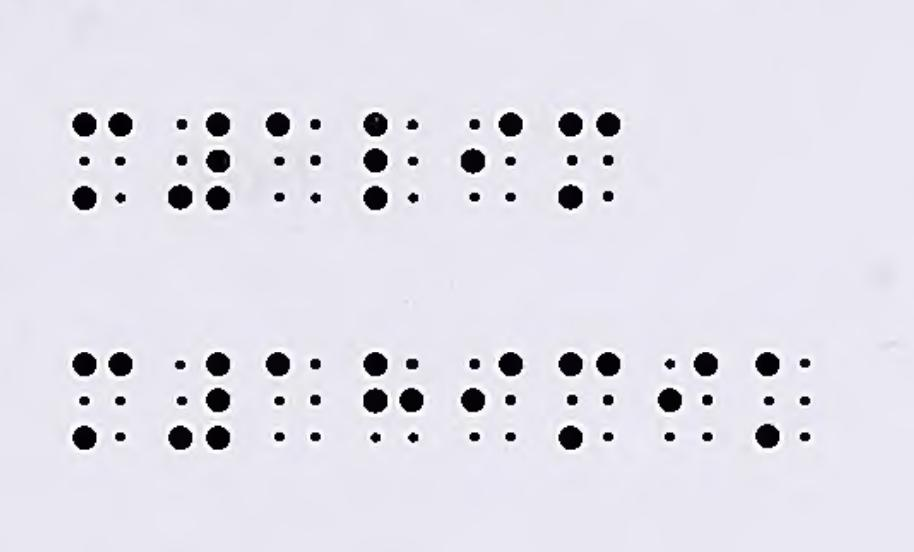a: (265, 352, 322, 443), (265, 111, 321, 203)
at: (166, 351, 231, 452), (168, 110, 232, 212)
h: (362, 352, 425, 445)
i: (462, 350, 524, 444), (461, 111, 524, 203), (656, 352, 715, 442)
k: (754, 351, 811, 450)
l: (361, 113, 421, 209)
m: (556, 110, 621, 212), (557, 351, 620, 451), (70, 111, 132, 212), (70, 350, 132, 450)
